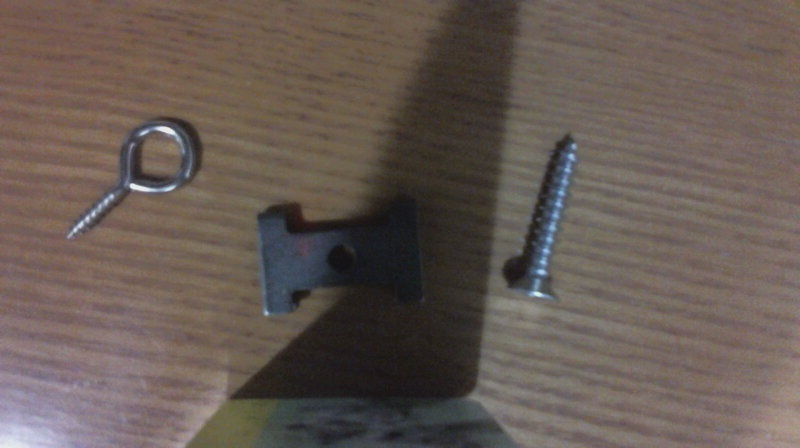O001: (60, 118, 203, 246)
O002: (253, 193, 426, 319)
S001: (497, 127, 583, 310)
